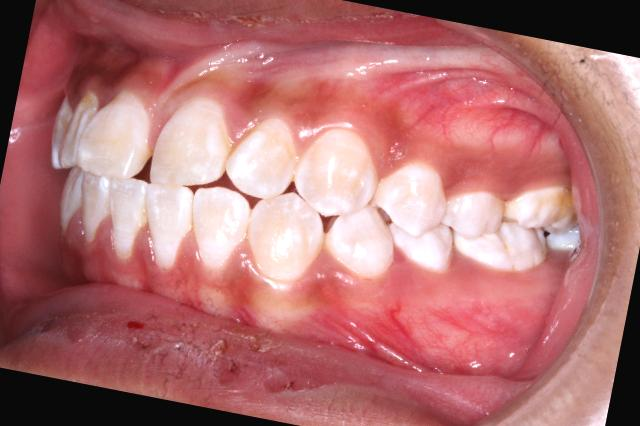canine class I: (234, 110, 422, 328)
molar class III 1/2: (446, 164, 586, 292)
